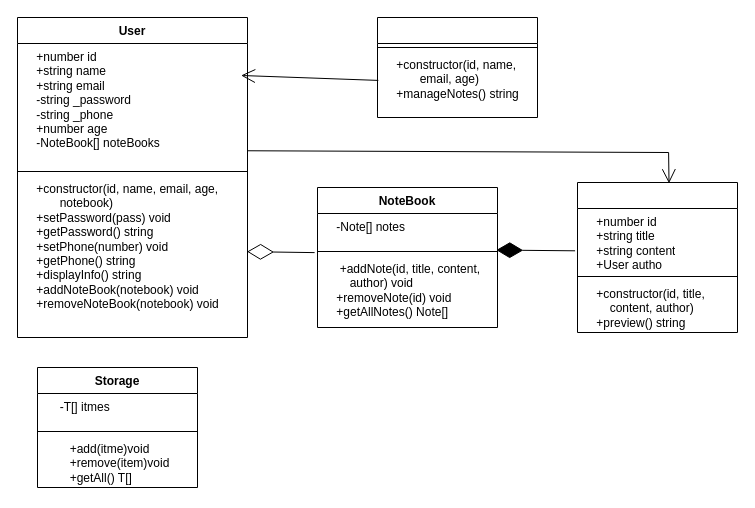
This 755x508 diagram has some shape labels left out. Here are the shapes that lost their labels. From the top down, the box of each, then its label:
(376, 16, 538, 118): Admin
(576, 182, 738, 332): Note
